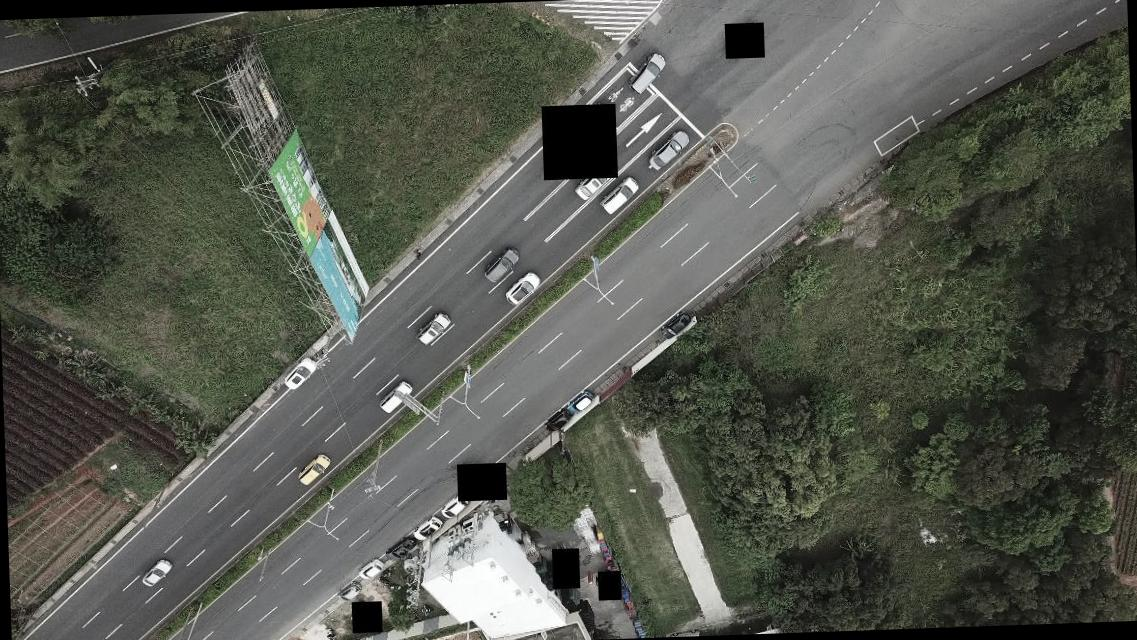vehicle: (574, 160, 616, 200), (628, 52, 667, 94), (648, 131, 690, 169), (598, 176, 639, 214), (503, 271, 542, 305), (414, 310, 449, 346), (482, 248, 518, 283), (282, 357, 315, 390), (296, 454, 330, 486), (378, 380, 411, 412), (140, 558, 174, 588), (660, 312, 691, 341), (440, 494, 469, 520), (384, 536, 415, 560), (412, 516, 442, 540), (566, 390, 593, 413), (542, 409, 568, 432), (357, 558, 383, 580), (337, 582, 361, 602)
